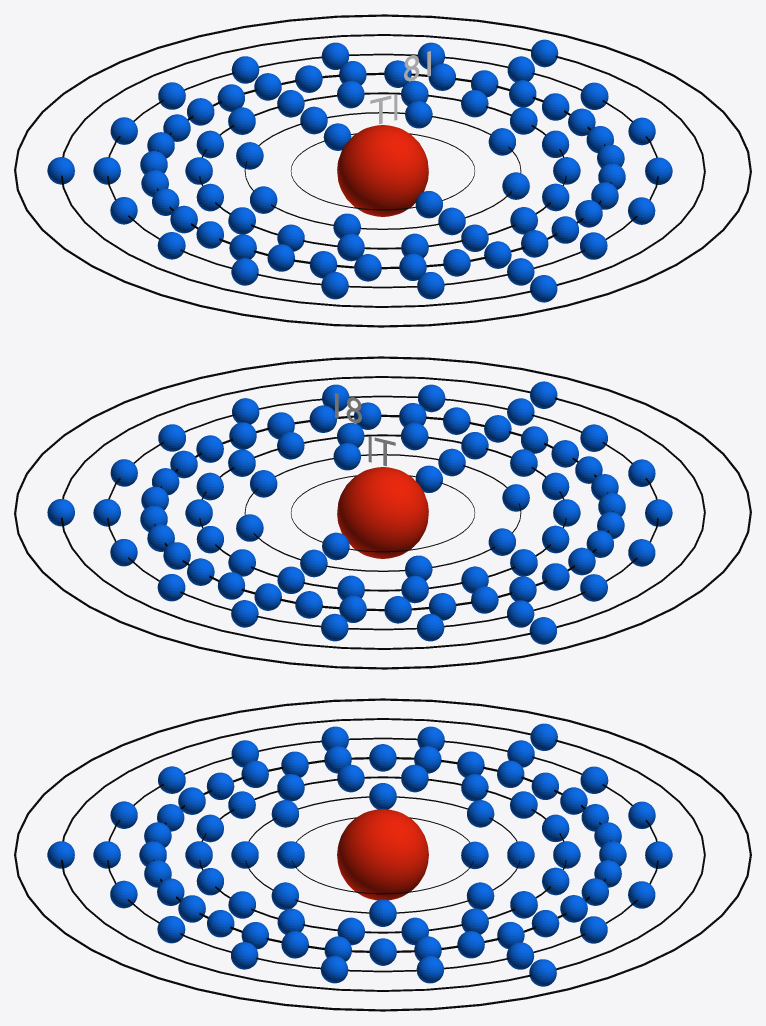
The picture shows the model from 3 angles, top to bottom: view 1: azimuth 30°, elevation 25°; view 2: azimuth 150°, elevation 25°; view 3: azimuth 270°, elevation 25°; orthographic projection.
Parts seen in each view (by area): view 1: Tl4, Tl5, Tl3, Proton, Tl2, n7, n6, n5, Tl6, Tl1, n3, n4 (+1 smaller); view 2: Tl4, Tl5, Tl3, Proton, Tl2, n7, n6, n5, Tl6, Tl1, n3, n4 (+1 smaller); view 3: Tl4, Tl3, Tl5, Proton, Tl2, n7, n6, n5, Tl6, Tl1, n3, n4 (+2 smaller).
Part boxes in pixels (x1,y1,x2,y2): Tl4: (140, 60, 625, 281); Tl5: (93, 42, 672, 299); Tl3: (185, 80, 580, 261); Proton: (337, 125, 428, 216); Tl2: (236, 101, 529, 238); n7: (14, 14, 751, 327); n6: (61, 34, 705, 307); n5: (107, 53, 658, 288); Tl6: (47, 39, 558, 302); Tl1: (323, 123, 442, 218); n3: (199, 92, 566, 249); n4: (152, 72, 611, 269); Tl4: (140, 402, 625, 623); Tl5: (93, 384, 672, 641); Tl3: (185, 422, 580, 603); Proton: (337, 467, 428, 558); Tl2: (236, 443, 529, 580); n7: (14, 356, 751, 669); n6: (61, 376, 705, 649); n5: (107, 395, 658, 630); Tl6: (47, 381, 557, 644); Tl1: (322, 465, 442, 560); n3: (199, 434, 566, 591); n4: (153, 414, 613, 611); Tl4: (139, 744, 626, 965); Tl3: (185, 764, 580, 945); Tl5: (93, 726, 672, 983); Proton: (337, 809, 428, 900); Tl2: (231, 783, 534, 926); n7: (14, 698, 751, 1011); n6: (61, 718, 705, 991); n5: (107, 737, 658, 972); Tl6: (47, 723, 557, 986); Tl1: (277, 841, 488, 869); n3: (199, 776, 566, 933); n4: (153, 757, 612, 952).
Size of the model in its own units: 802 by 180 by 802.
